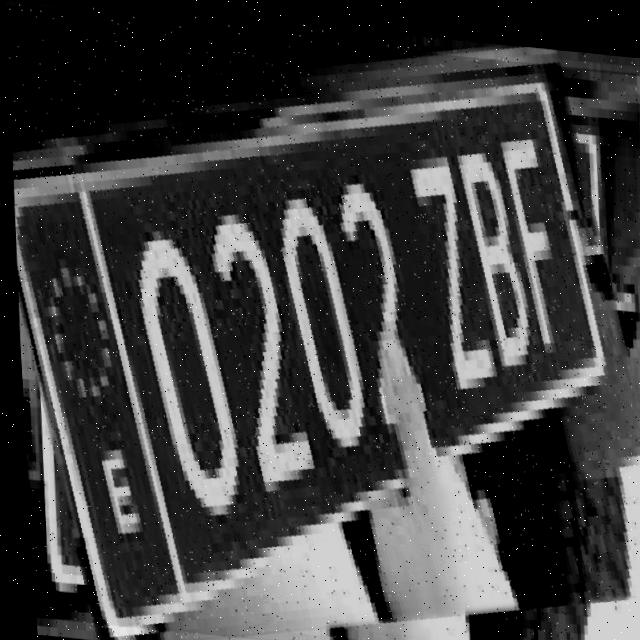LicensePlate: (0, 10, 640, 640)
